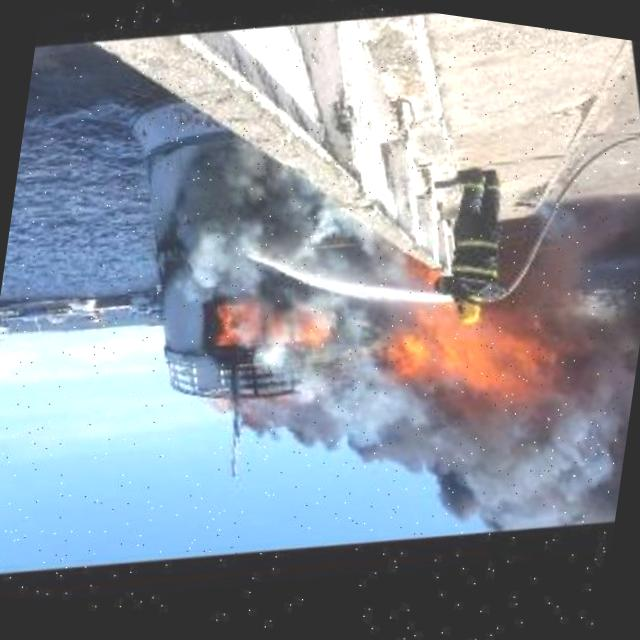fire: (354, 266, 586, 458), (201, 300, 266, 360), (293, 316, 338, 360)
